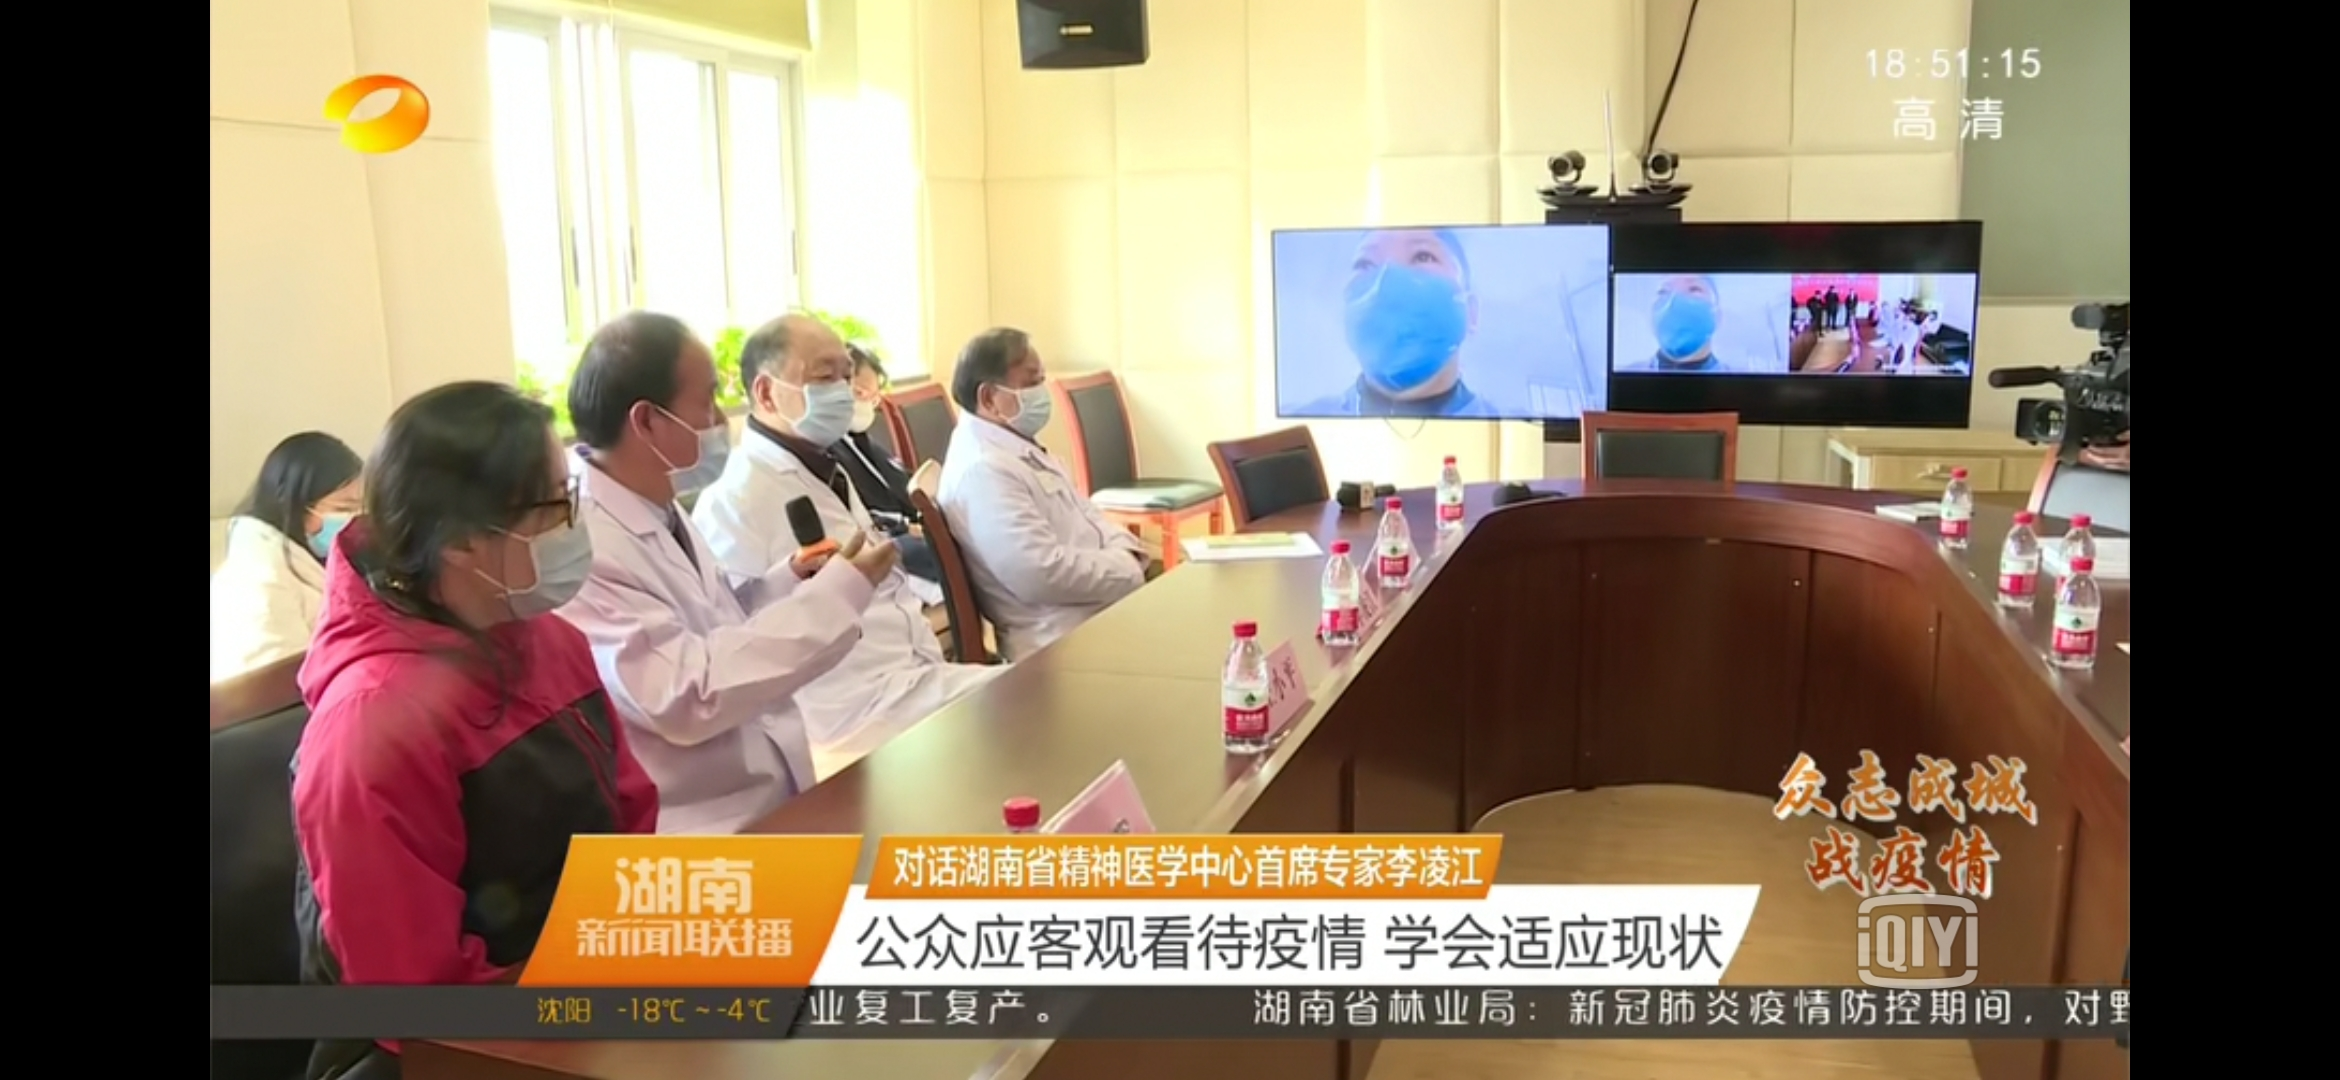correctlyWear: (1331, 230, 1486, 388), (449, 473, 594, 630), (628, 374, 737, 501), (748, 345, 845, 437), (972, 362, 1057, 445), (1648, 276, 1725, 357), (292, 468, 360, 552), (848, 367, 882, 436)
